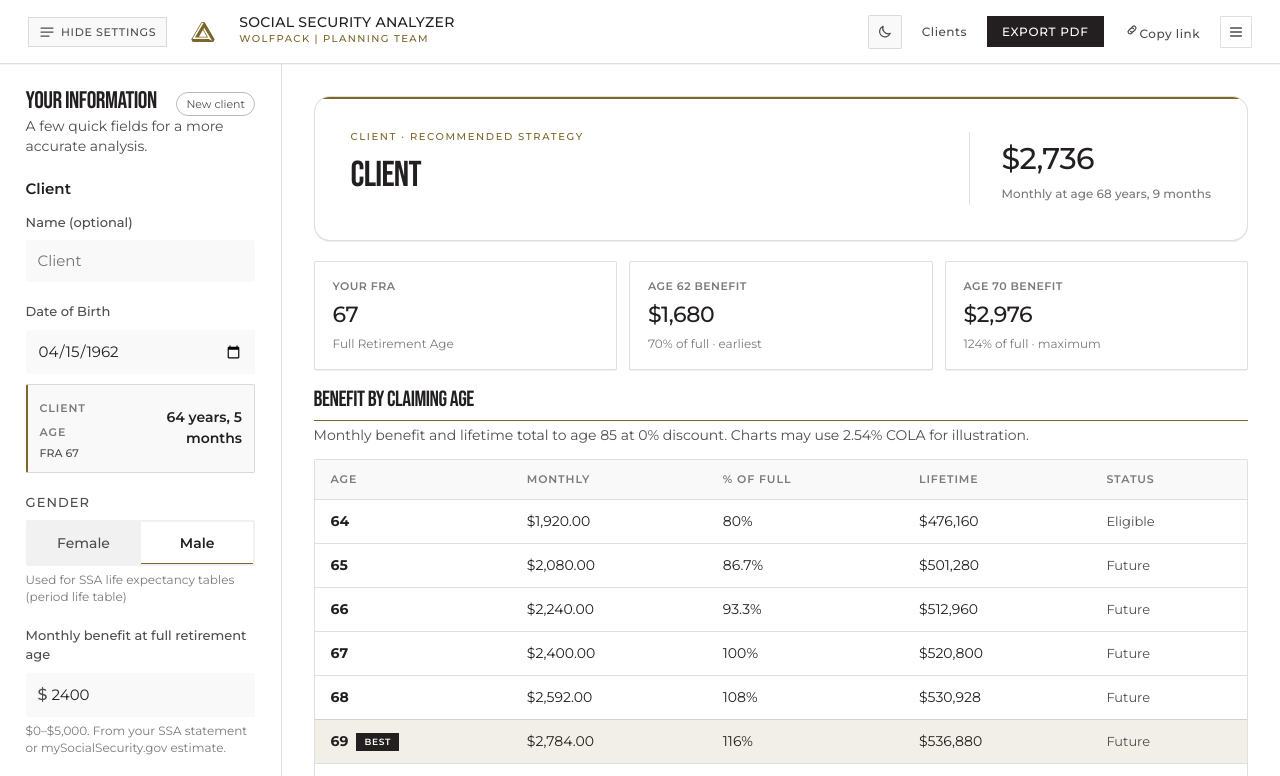
Test: when the PDF export fails › says so, and lets the adviser try again
Click the button with test id "export-report".
click(1045, 32)  # box [987,16,1104,47]
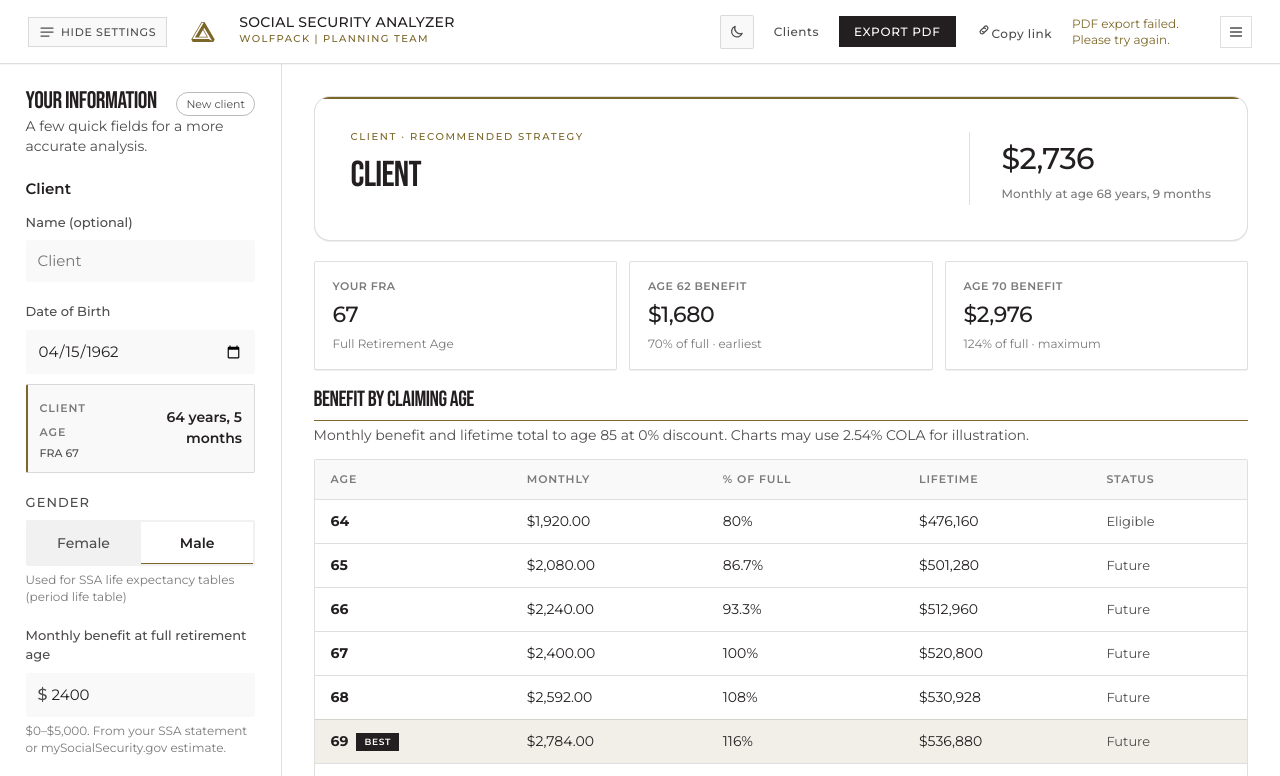
expect the button with test id "export-report" is enabled: met, box [839,16,956,47]
expect the text "PDF export failed. Please try again." is shown: met, box [1072,16,1179,46]
